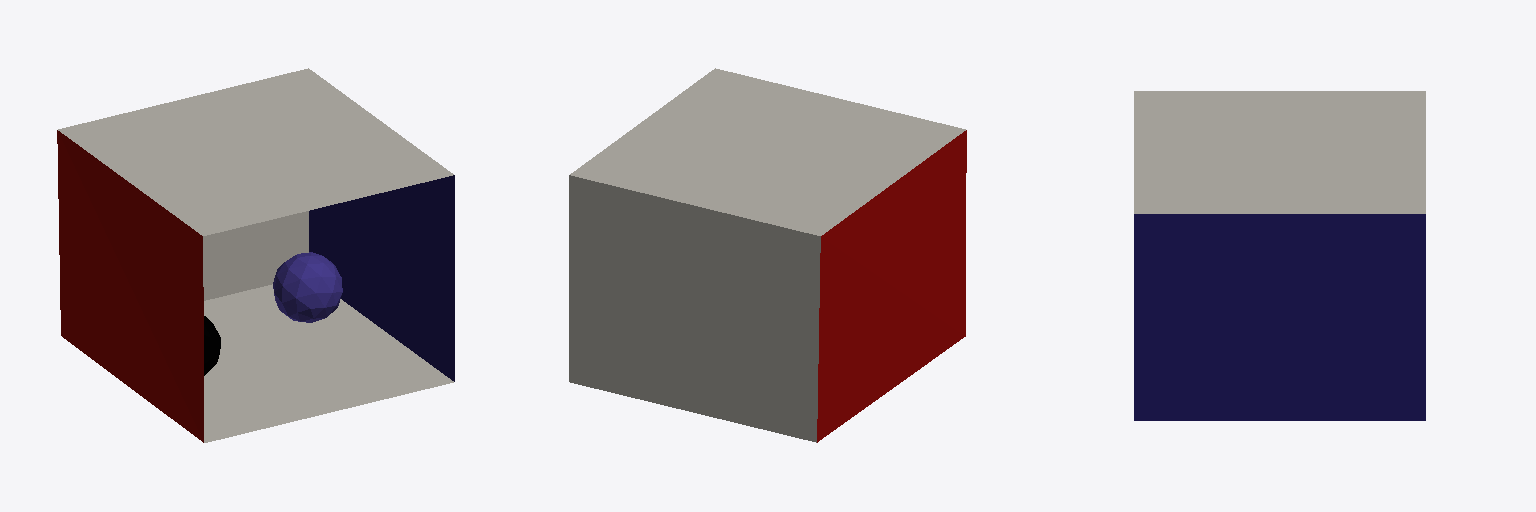
The model's file is CornellBox-Sphere-1370.obj.
The picture shows the model from 3 angles: view 1: azimuth 30°, elevation 25°; view 2: azimuth 150°, elevation 25°; view 3: azimuth 270°, elevation 25°; orthographic projection.
Visible parts, largest first — view 1: ceiling, leftWall, floor, rightWall, backWall, leftSphere, rightSphere; view 2: backWall, ceiling, leftWall; view 3: rightWall, ceiling.
Part boxes in pixels (left/top/right/bottom): ceiling: left=58, top=68, right=453, bottom=235; leftWall: left=57, top=130, right=203, bottom=442; floor: left=204, top=284, right=453, bottom=442; rightWall: left=309, top=175, right=454, bottom=381; backWall: left=203, top=211, right=308, bottom=300; leftSphere: left=273, top=252, right=342, bottom=322; rightSphere: left=204, top=316, right=220, bottom=375; backWall: left=569, top=175, right=820, bottom=442; ceiling: left=570, top=68, right=965, bottom=235; leftWall: left=817, top=130, right=966, bottom=442; rightWall: left=1134, top=214, right=1425, bottom=420; ceiling: left=1134, top=91, right=1425, bottom=213.
Size of the model in its own units: 2.02 by 1.59 by 2.03.